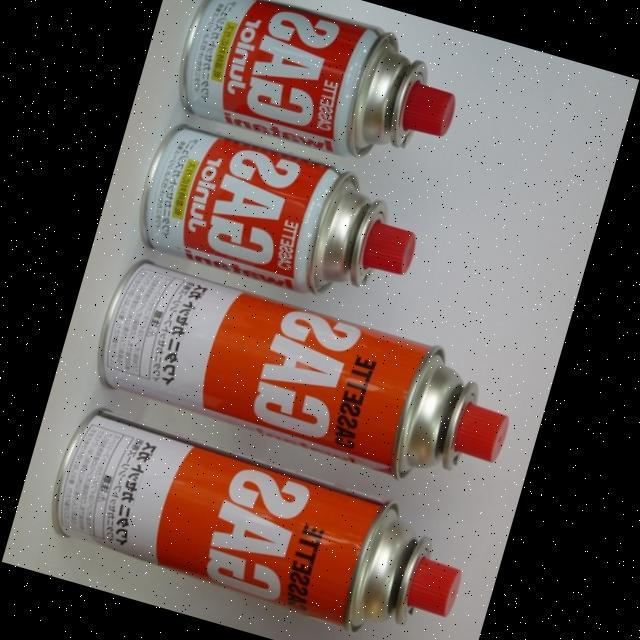chemical_spray_can: (52, 409, 460, 632), (98, 259, 509, 478), (140, 123, 414, 293), (180, 0, 454, 155)
